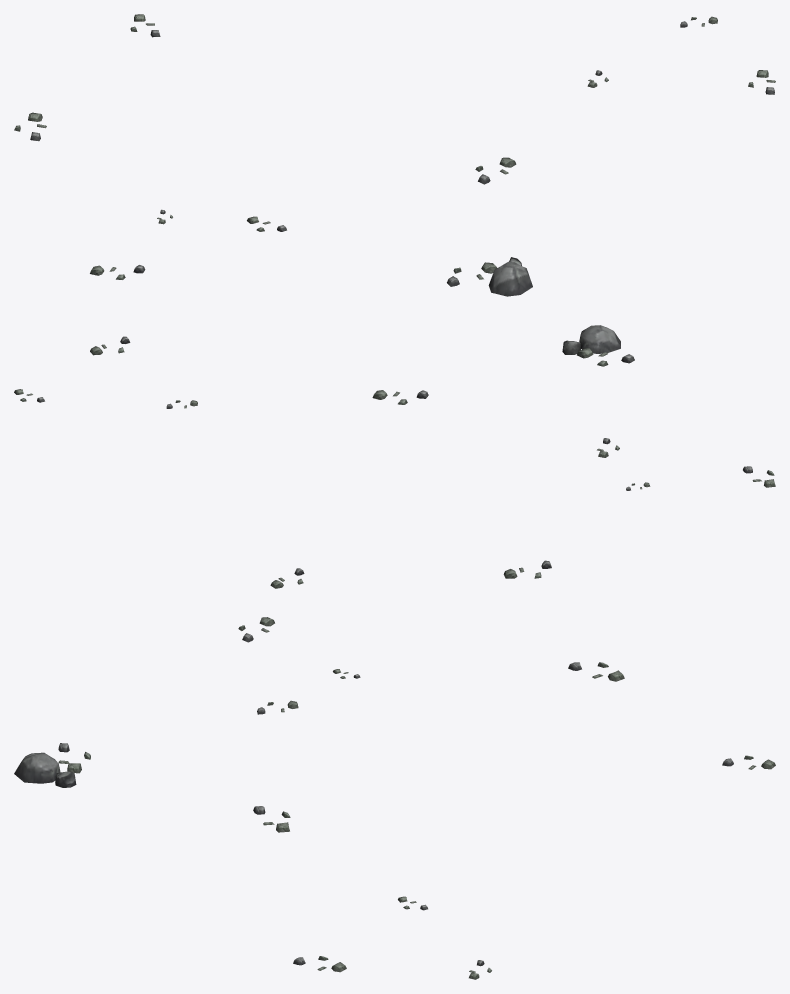
Rendered from Area_11_9.fbx.
The picture shows the model from 3 angles, top to bottom: view 1: azimuth 30°, elevation 25°; view 2: azimuth 150°, elevation 25°; view 3: azimuth 270°, elevation 25°; orthographic projection. The views are drawn at different scales.
Visible parts, largest first — view 1: Area_11_9; view 2: Area_11_9; view 3: Area_11_9.
Boxes of the visible parts, x1,y1,x2,y2 form: Area_11_9: (14, 14, 775, 296); Area_11_9: (14, 325, 775, 588); Area_11_9: (14, 617, 775, 979).
Size of the model in its own units: 6700 by 201 by 5989.
